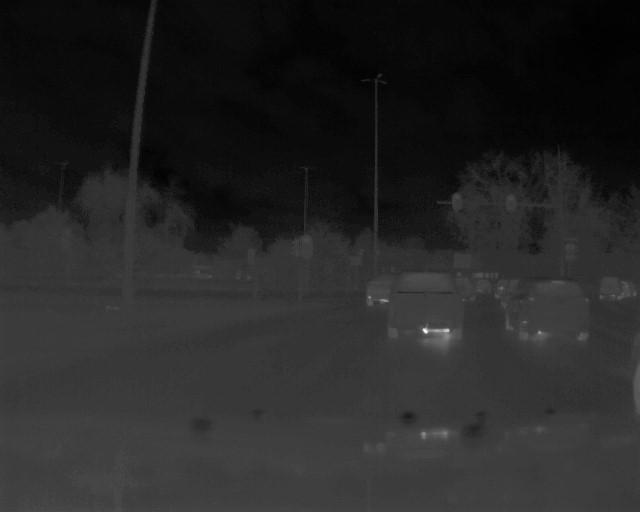car: (503, 273, 593, 342), (385, 270, 466, 344), (598, 269, 626, 303), (365, 271, 388, 308)
